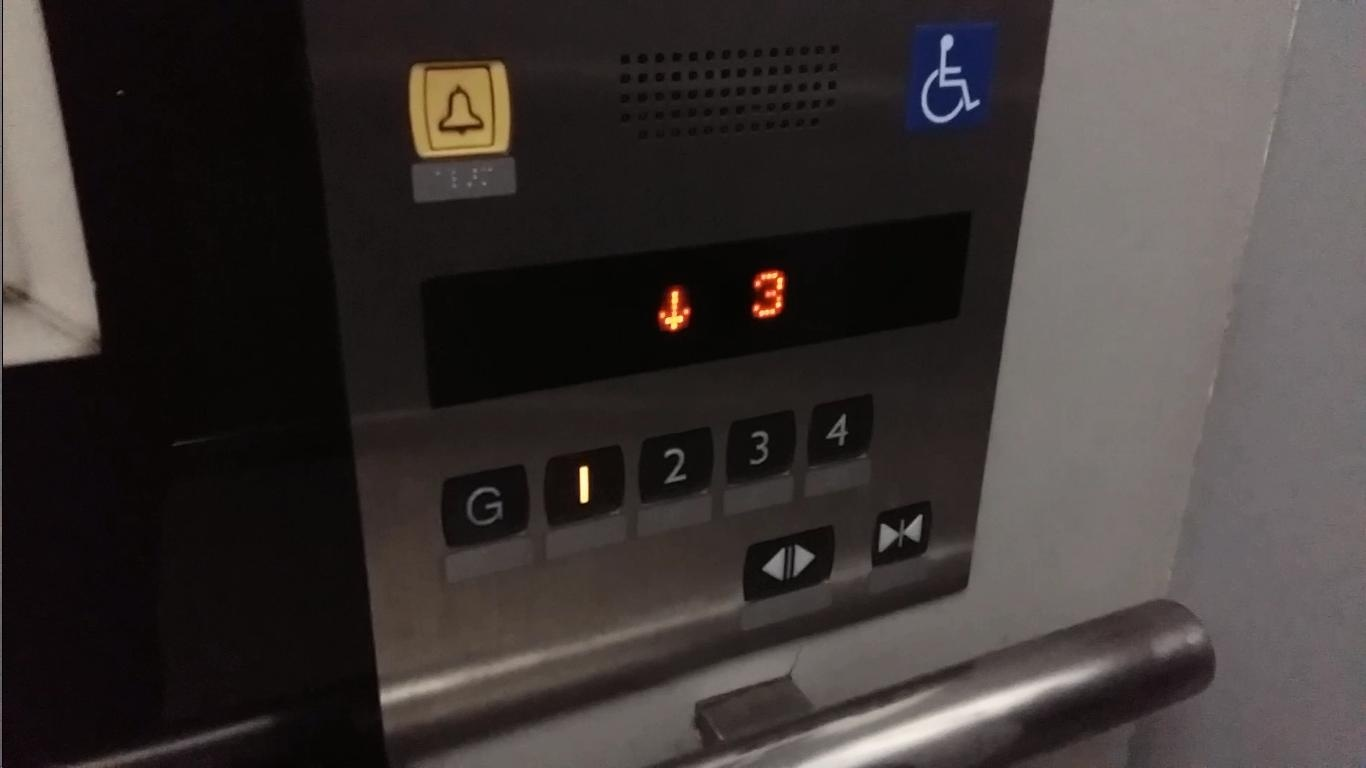1: (542, 443, 626, 528)
2: (638, 428, 715, 502)
3: (725, 409, 797, 483)
4: (806, 397, 876, 466)
CH: (907, 18, 1000, 132)
G: (435, 463, 538, 549)
alarm: (402, 58, 518, 161)
close: (867, 497, 934, 566)
led: (421, 209, 973, 411)
open: (744, 519, 838, 599)
